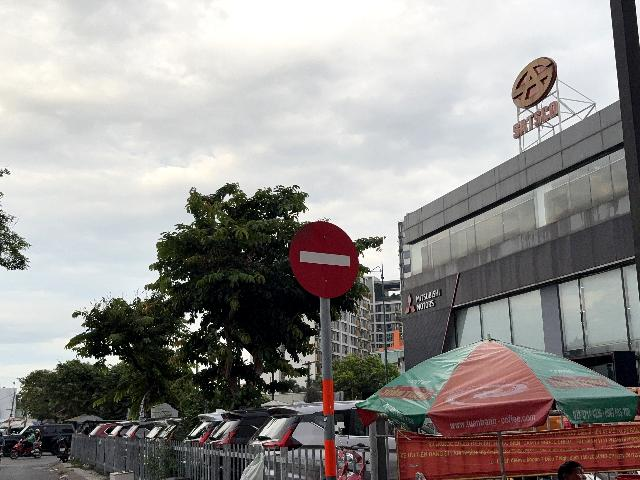cam-di-nguoc-chieu: (289, 221, 359, 299)
